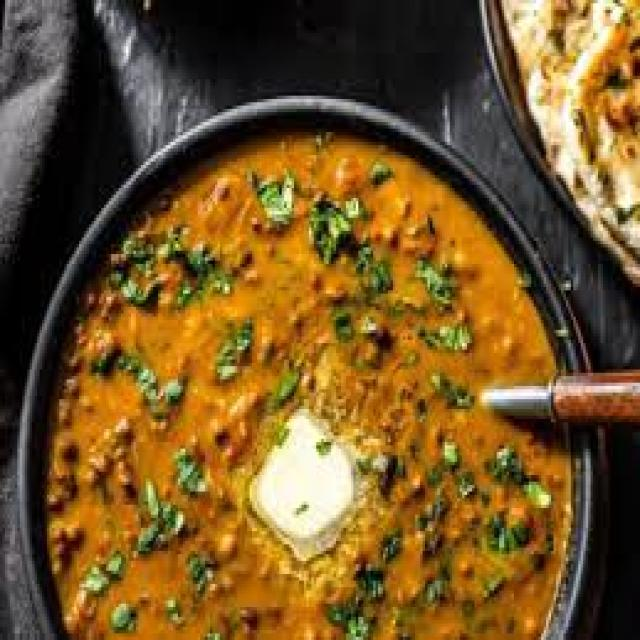dal_makhani: (20, 99, 600, 640)
